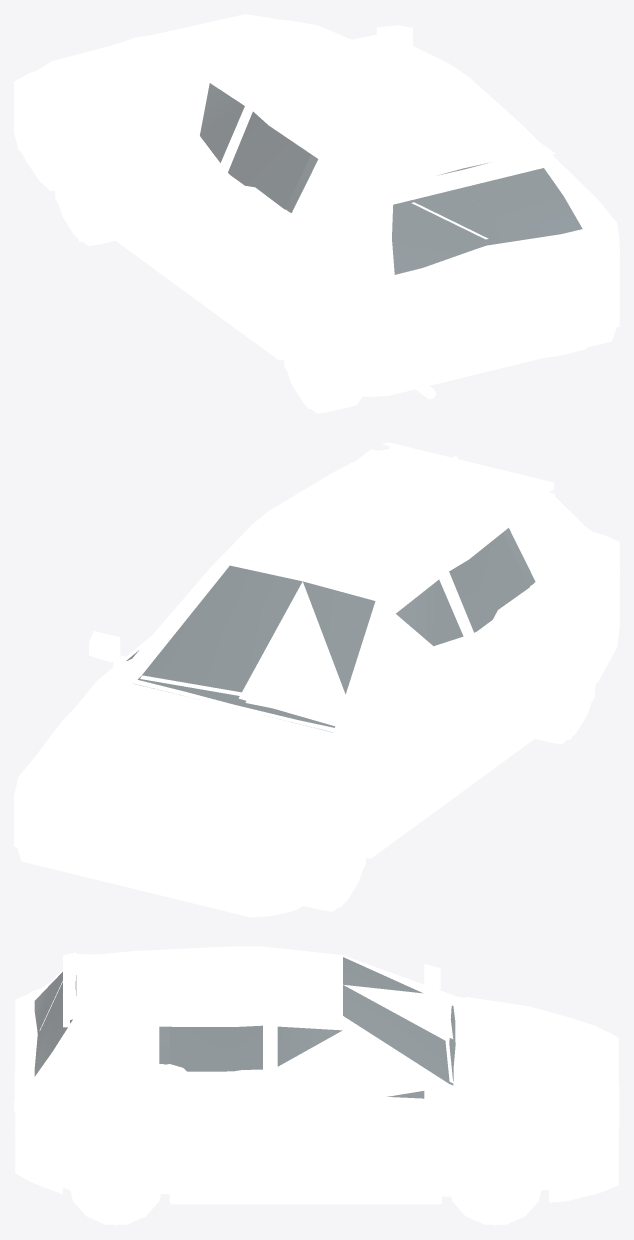
The model's file is car_small.glb.
3 views of the same model, one above another, from view 1: azimuth 30°, elevation 25°; view 2: azimuth 150°, elevation 25°; view 3: azimuth 270°, elevation 25° (orthographic). The views are drawn at different scales.
Visible parts, largest first — view 1: car_small, car_small_lodfar; view 2: car_small, car_small_lodfar; view 3: car_small_lodfar, car_small.
Boxes of the visible parts, <box> form: car_small: <box>14,14,619,413</box>; car_small_lodfar: <box>14,18,619,409</box>; car_small: <box>14,442,619,917</box>; car_small_lodfar: <box>14,496,619,907</box>; car_small_lodfar: <box>15,956,618,1225</box>; car_small: <box>14,946,619,1224</box>.
Size of the model in its own units: 2.07 by 1.48 by 4.09.
